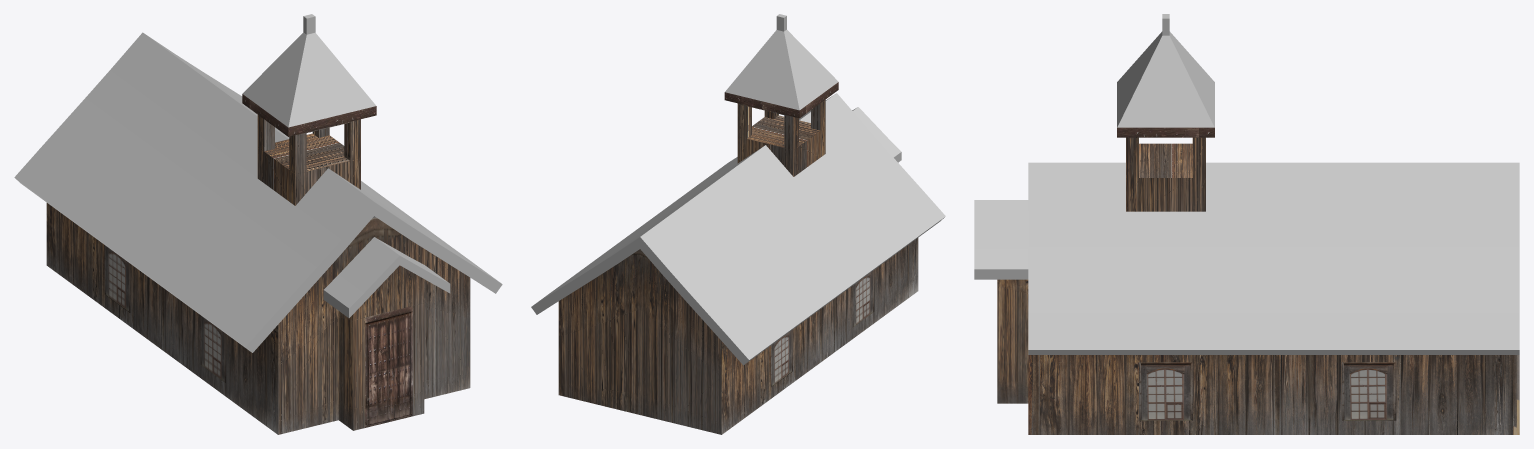
File: Capela.fbx
3 views of the same model, side by side, from view 1: azimuth 30°, elevation 25°; view 2: azimuth 150°, elevation 25°; view 3: azimuth 270°, elevation 25° (orthographic). The views are drawn at different scales.
Visible parts, largest first — view 1: Cube; view 2: Cube; view 3: Cube.
Boxes of the visible parts, bbox=[...] form: Cube: bbox=[14, 14, 502, 434]; Cube: bbox=[531, 14, 945, 434]; Cube: bbox=[974, 14, 1519, 434].
Size of the model in its own units: 884 by 1144 by 1533.
